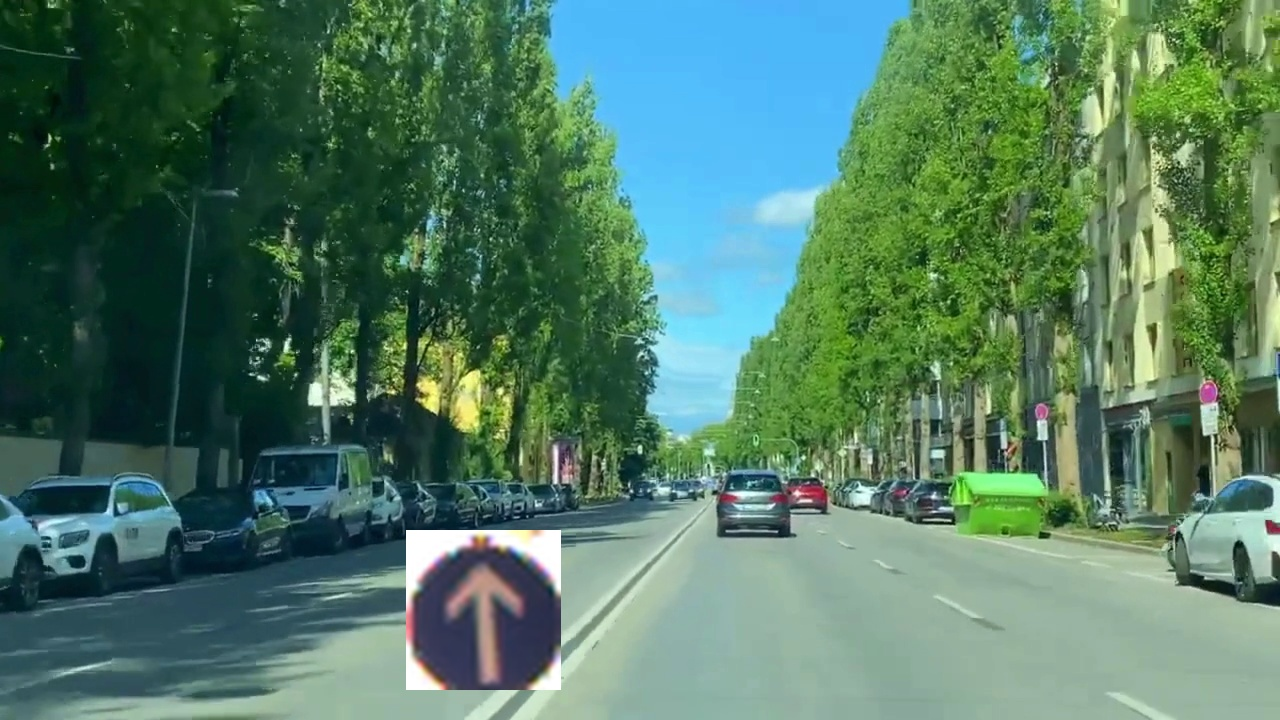Ahead only: (406, 530, 561, 690)
